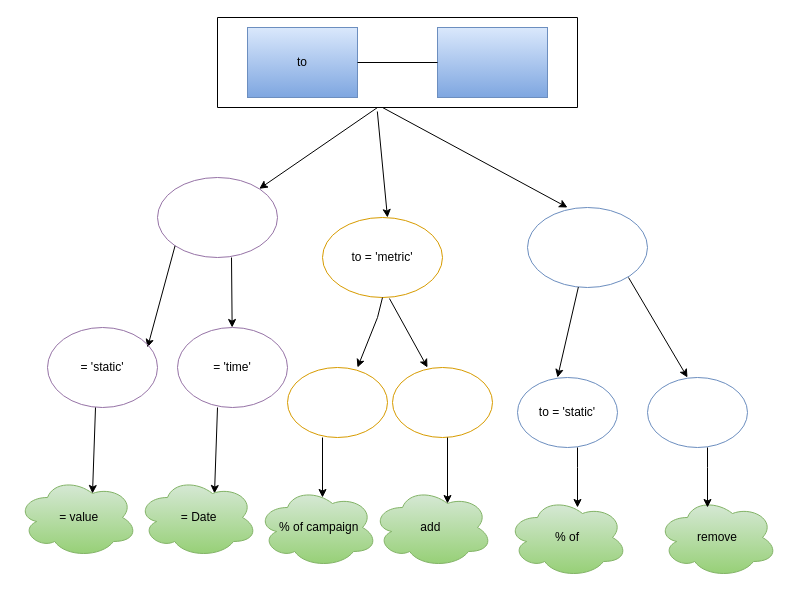
Some shapes in this 795 by 595 pixel diagram are drawn without their labels. The shapes that lost their labels are listed below. From the top down, each one's box as (x1, y1, x2, y2) in pixels, then its label:
(436, 26, 548, 98): to_self
(156, 176, 278, 258): to = to_self
(526, 206, 648, 288): to_self = 'metric'
(286, 366, 388, 438): to_self= 'static'
(392, 366, 492, 438): to_self = 'time'
(646, 376, 748, 448): to= 'time'
